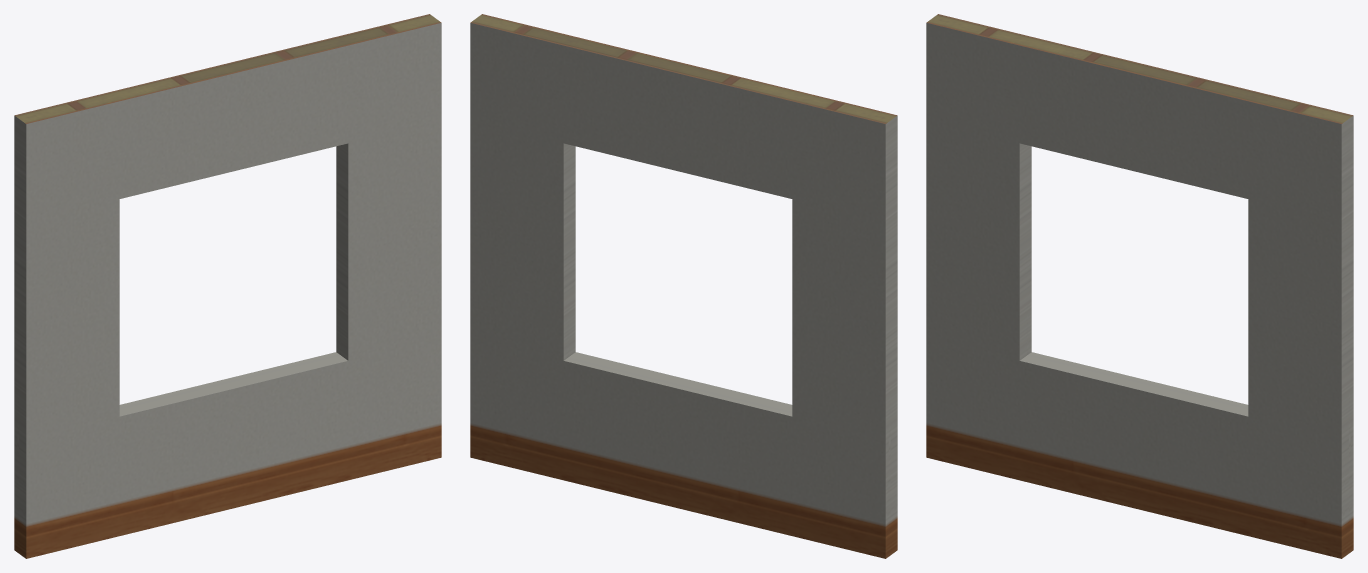
File: wall4_8.fbx
3 views of the same model, side by side, from view 1: azimuth 30°, elevation 25°; view 2: azimuth 150°, elevation 25°; view 3: azimuth 330°, elevation 25° (orthographic).
Parts seen in each view (by area): view 1: wall4_white_h; view 2: wall4_white_h; view 3: wall4_white_h.
Boxes of the visible parts, x1,y1,x2,y2 form: wall4_white_h: (14,14,441,558); wall4_white_h: (470,14,897,558); wall4_white_h: (926,14,1353,558).
Size of the model in its own units: 400 by 400 by 20.
